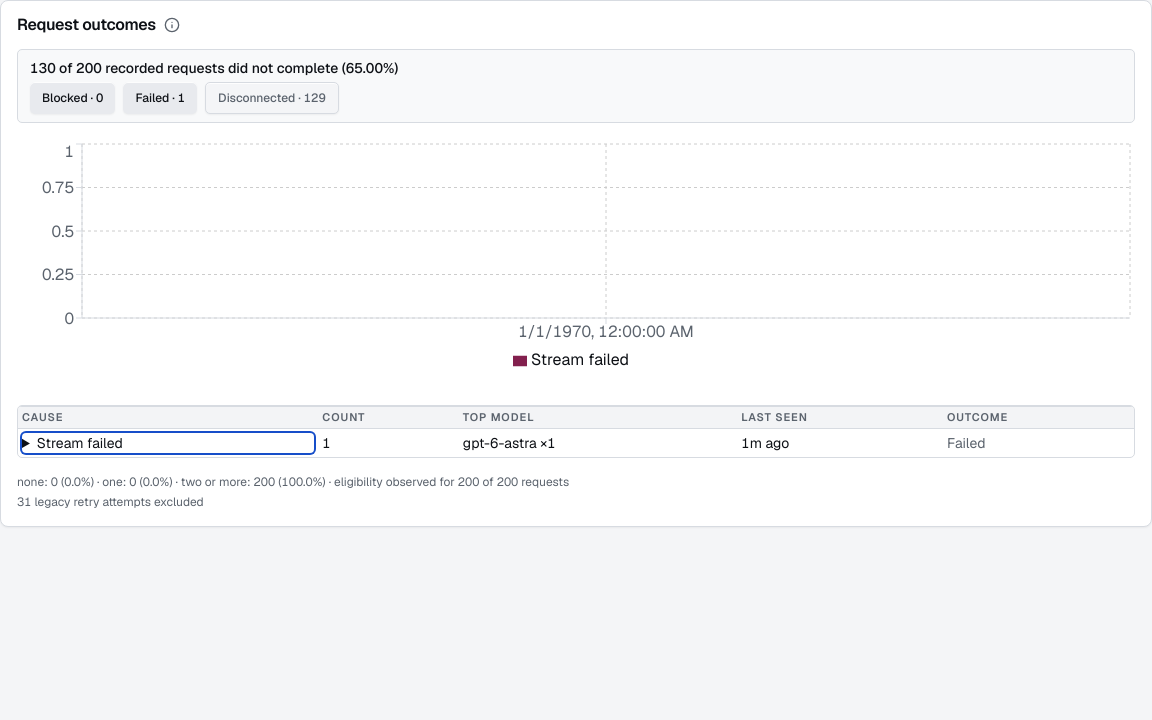
Test: request outcome interactions › makes raw samples available through a focusable disclosure
The image size is (1152, 720).
Click the heading "Stream failed" at [80, 443], box [22,433,314,453]
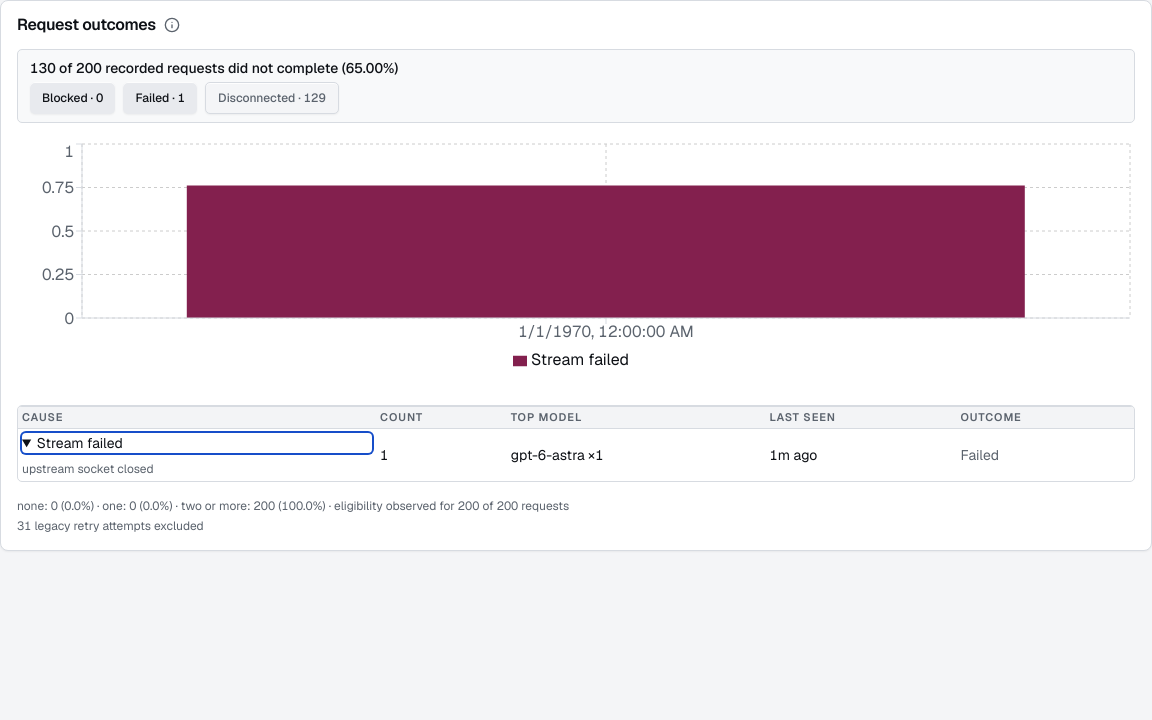
Result: the element showing "Stream failed upstream socket closed" is shown at [22,433,372,477]
